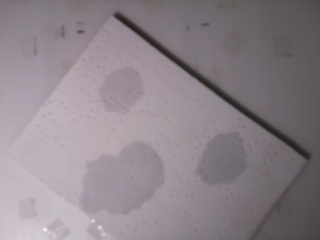Water_detected: (103, 152, 163, 209), (101, 73, 141, 113), (207, 147, 242, 175)
